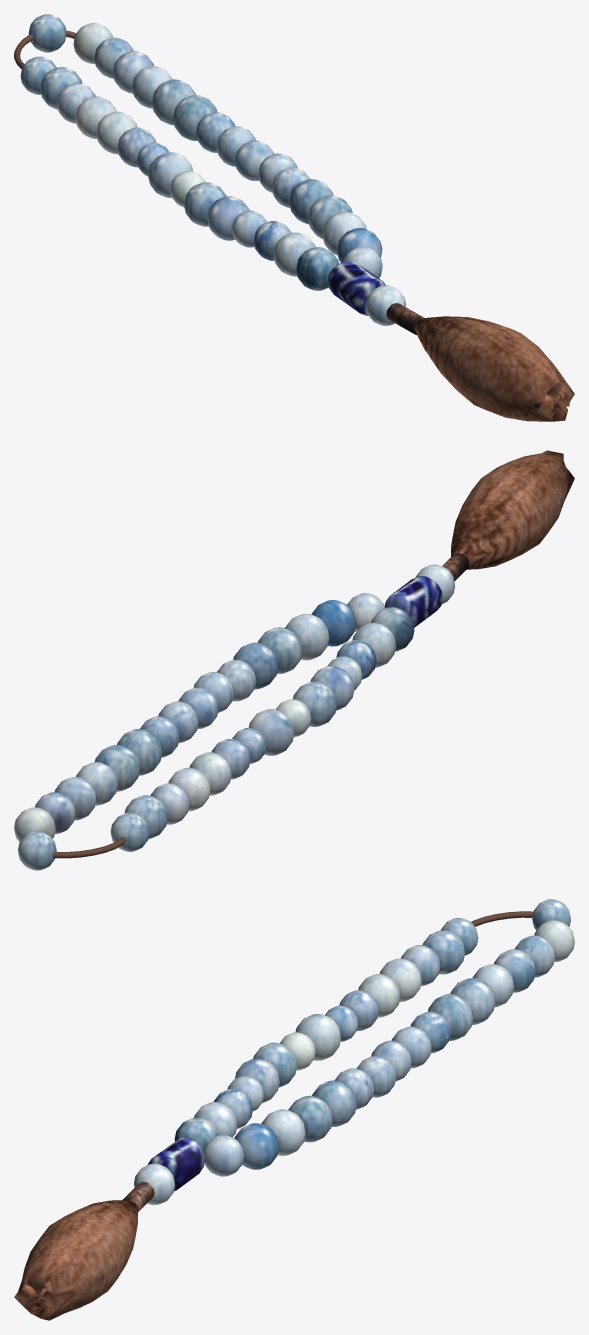
Rendered from Tasbih Seramik (EMP(SWK)42, EC(SWK)10E).fbx.
3 renders of one model, top to bottom at view 1: azimuth 30°, elevation 25°; view 2: azimuth 150°, elevation 25°; view 3: azimuth 330°, elevation 25°, orthographic. The views are drawn at different scales.
Visible parts, largest first — view 1: Tasbih Seramik (EMP(SWK)42, EC(SWK)10E); view 2: Tasbih Seramik (EMP(SWK)42, EC(SWK)10E); view 3: Tasbih Seramik (EMP(SWK)42, EC(SWK)10E).
Part boxes in pixels (x1,y1,x2,y2): Tasbih Seramik (EMP(SWK)42, EC(SWK)10E): [14, 14, 574, 421]; Tasbih Seramik (EMP(SWK)42, EC(SWK)10E): [14, 450, 574, 870]; Tasbih Seramik (EMP(SWK)42, EC(SWK)10E): [14, 899, 574, 1320].
Size of the model in its own units: 1.38 by 0.8398 by 10.1.
Materials: 1 (1 with a texture image).
